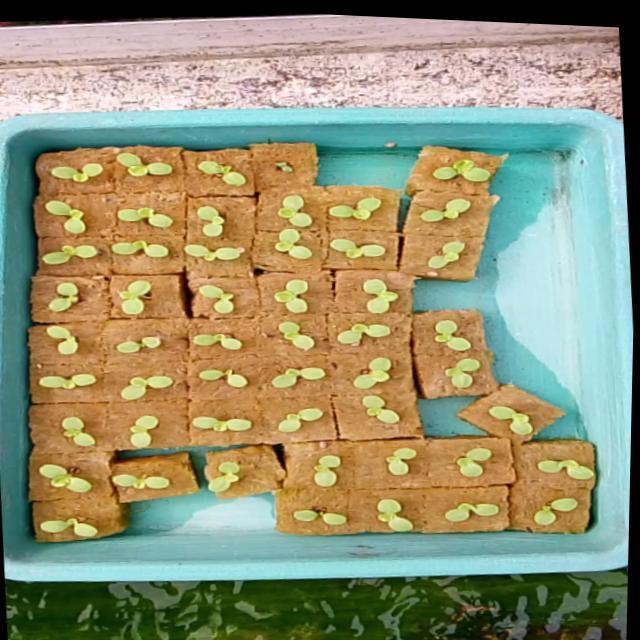Baby: (474, 396, 536, 440), (521, 496, 590, 531), (46, 417, 114, 452), (513, 463, 571, 494), (351, 359, 409, 390), (324, 234, 382, 265), (337, 321, 391, 352), (187, 283, 236, 316), (104, 329, 170, 353), (28, 277, 73, 312), (443, 499, 508, 522), (444, 359, 482, 395), (429, 162, 488, 185), (31, 244, 95, 265), (110, 152, 166, 176), (117, 376, 170, 401), (191, 160, 240, 187), (39, 200, 77, 234), (111, 279, 146, 315), (358, 281, 394, 316), (416, 201, 467, 225), (192, 368, 247, 390), (375, 499, 411, 532), (360, 396, 398, 427), (269, 230, 307, 261), (269, 281, 303, 315), (269, 368, 322, 389), (275, 322, 312, 352), (273, 198, 307, 230), (177, 244, 239, 261), (452, 448, 487, 478), (424, 243, 460, 272), (105, 240, 163, 258), (46, 162, 98, 182), (326, 197, 377, 217), (35, 374, 92, 391), (125, 416, 155, 448), (42, 326, 75, 354), (310, 456, 338, 488), (191, 205, 219, 237), (432, 320, 468, 344), (384, 449, 414, 477), (190, 334, 239, 351), (278, 410, 311, 433), (112, 208, 156, 223)
